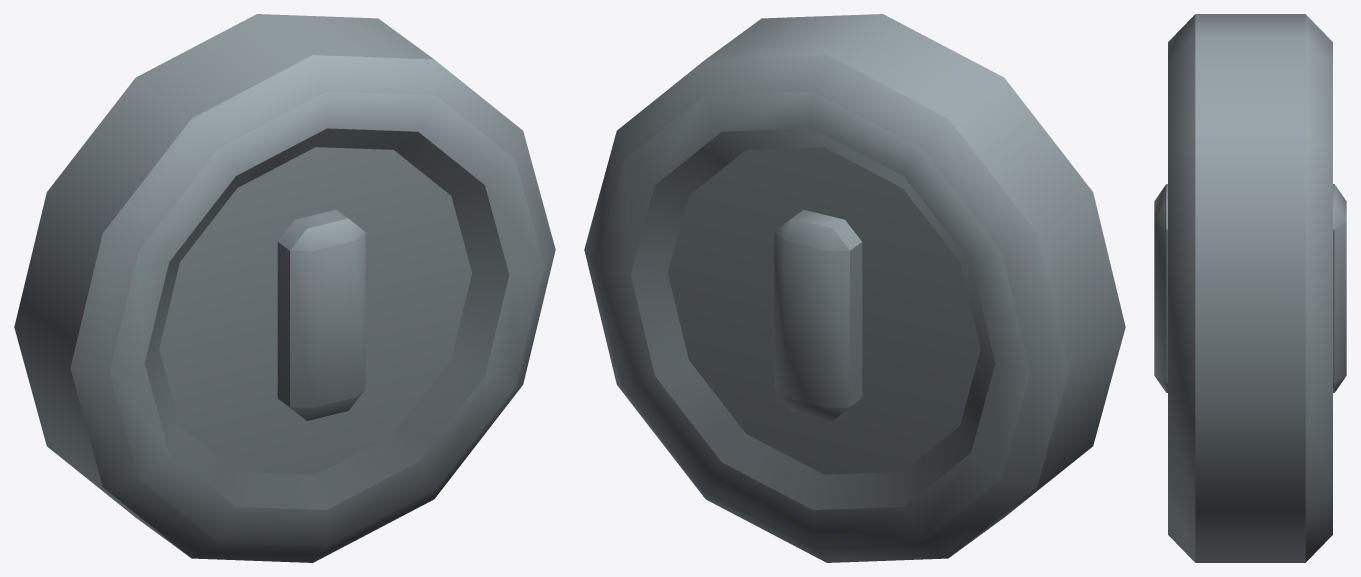
The model's file is coin_b.glb.
3 views of the same model, side by side, from view 1: azimuth 30°, elevation 25°; view 2: azimuth 150°, elevation 25°; view 3: azimuth 270°, elevation 25° (orthographic).
Parts seen in each view (by area): view 1: Coin_B; view 2: Coin_B; view 3: Coin_B.
Part boxes in pixels (bbox=[...]): Coin_B: bbox=[14, 14, 555, 562]; Coin_B: bbox=[584, 14, 1125, 562]; Coin_B: bbox=[1154, 14, 1346, 562].
Bounding box in the file's own units: 1 × 1 × 0.3492.
Materials: 1 (1 with a texture image).
